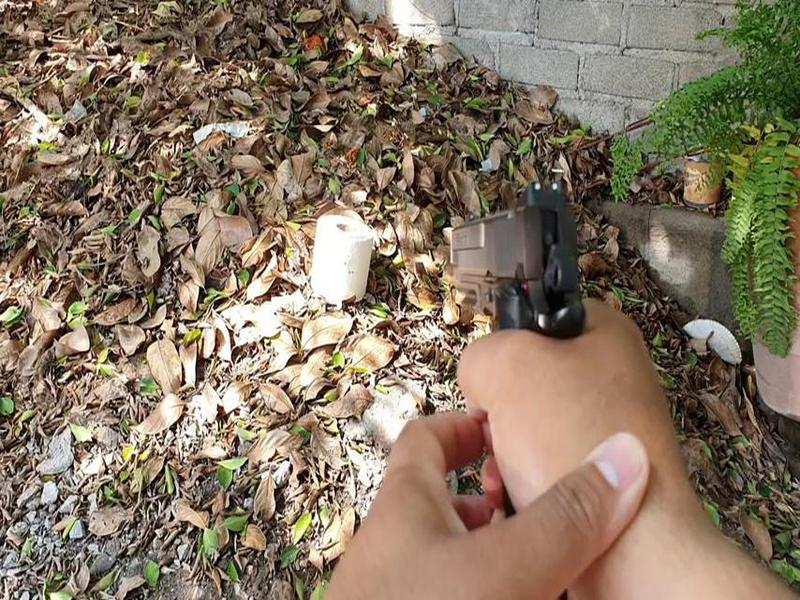Pistola: (412, 182, 605, 373)
